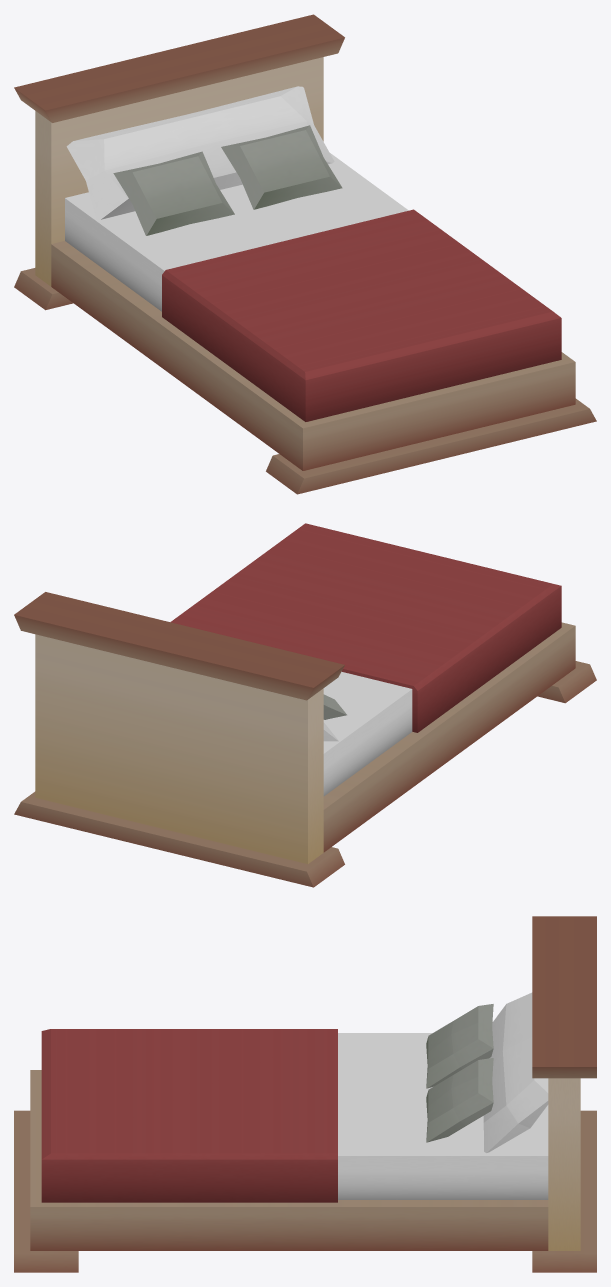
The model's file is bed.gltf.
The picture shows the model from 3 angles, top to bottom: view 1: azimuth 30°, elevation 25°; view 2: azimuth 150°, elevation 25°; view 3: azimuth 270°, elevation 25°; orthographic projection. The views are drawn at different scales.
Visible parts, largest first — view 1: Plane.003_3, Plane.001_1, Plane.002_2, Plane.006_10, Cube.001_9, Plane.005_5, Plane.007_6, Cube_7, Cube.002_8, Plane.004_4; view 2: Plane.005_5, Plane.003_3, Plane.006_10, Plane.001_1, Plane.004_4, Plane.002_2, Plane.007_6; view 3: Plane.003_3, Plane.001_1, Plane.002_2, Plane.006_10, Cube.001_9, Plane.005_5, Cube.002_8, Plane.004_4, Plane.007_6, Cube_7.
Part boxes in pixels (x1,y1,x2,y2): Plane.003_3: (162, 209, 561, 421); Plane.001_1: (51, 241, 575, 470); Plane.002_2: (65, 153, 408, 311); Plane.006_10: (14, 14, 344, 122); Cube.001_9: (66, 86, 334, 219); Plane.005_5: (35, 57, 323, 286); Plane.007_6: (266, 398, 596, 494); Cube_7: (113, 151, 234, 235); Cube.002_8: (221, 125, 342, 209); Plane.004_4: (14, 268, 73, 310); Plane.005_5: (35, 634, 323, 863); Plane.003_3: (170, 523, 561, 732); Plane.006_10: (14, 592, 344, 700); Plane.001_1: (323, 622, 575, 852); Plane.004_4: (14, 791, 344, 887); Plane.002_2: (323, 671, 412, 796); Plane.007_6: (537, 661, 596, 703); Plane.003_3: (41, 1029, 337, 1202); Plane.001_1: (30, 1070, 548, 1250); Plane.002_2: (338, 1033, 548, 1199); Plane.006_10: (532, 916, 596, 1078); Cube.001_9: (483, 992, 548, 1152); Plane.005_5: (548, 1078, 580, 1250); Cube.002_8: (426, 1058, 493, 1142); Plane.004_4: (532, 1110, 596, 1272); Plane.007_6: (14, 1110, 78, 1272); Cube_7: (426, 1004, 493, 1088).
Size of the model in its own units: 22 by 14 by 36.
1 material, 1 textured.
